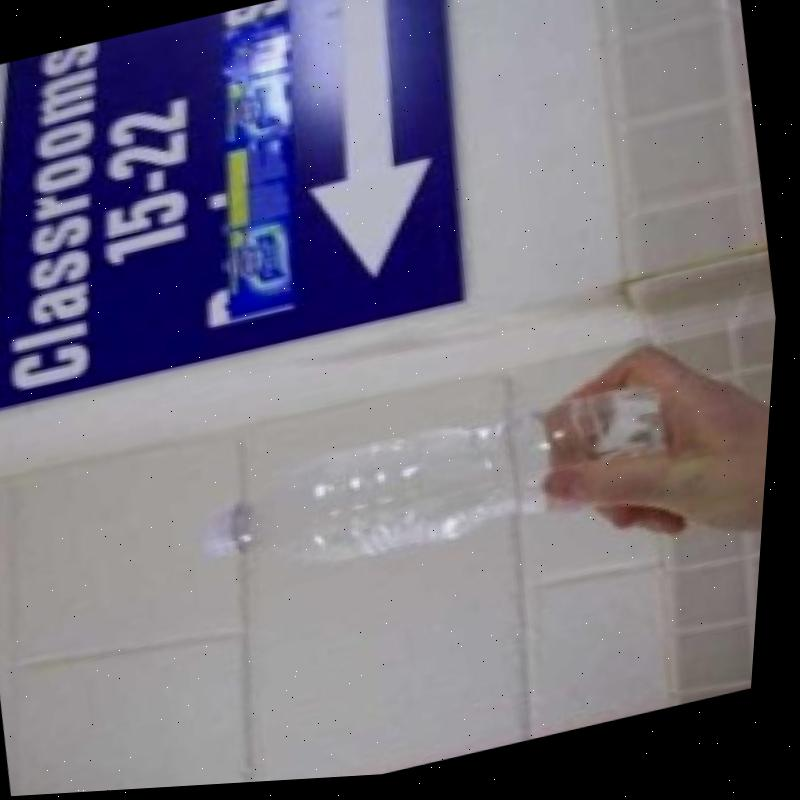botella: (199, 380, 687, 605)
